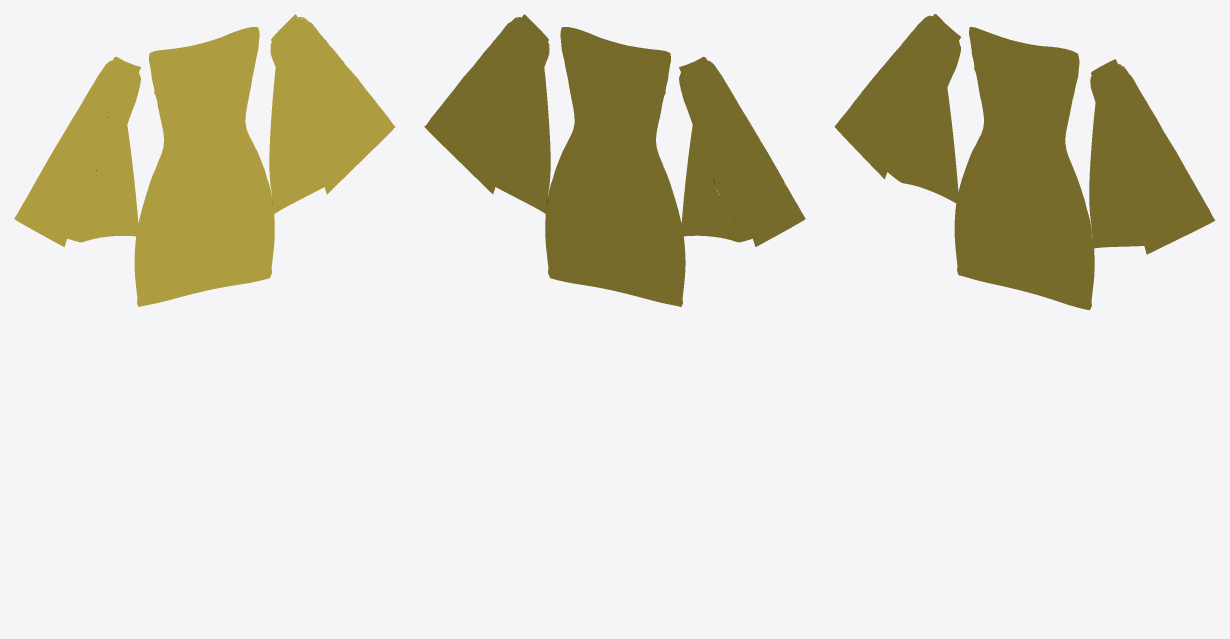
The model's file is party_dress.glb.
The picture shows the model from 3 angles, left to right: view 1: azimuth 30°, elevation 25°; view 2: azimuth 150°, elevation 25°; view 3: azimuth 330°, elevation 25°; orthographic projection.
Visible parts, largest first — view 1: Object_2; view 2: Object_2; view 3: Object_2.
Boxes of the visible parts, box(x1,y1,x2,y2) form: Object_2: box(14, 14, 395, 306); Object_2: box(424, 14, 805, 306); Object_2: box(834, 14, 1215, 310).
Bounding box in the file's own units: 503044 × 742792 × 271.
